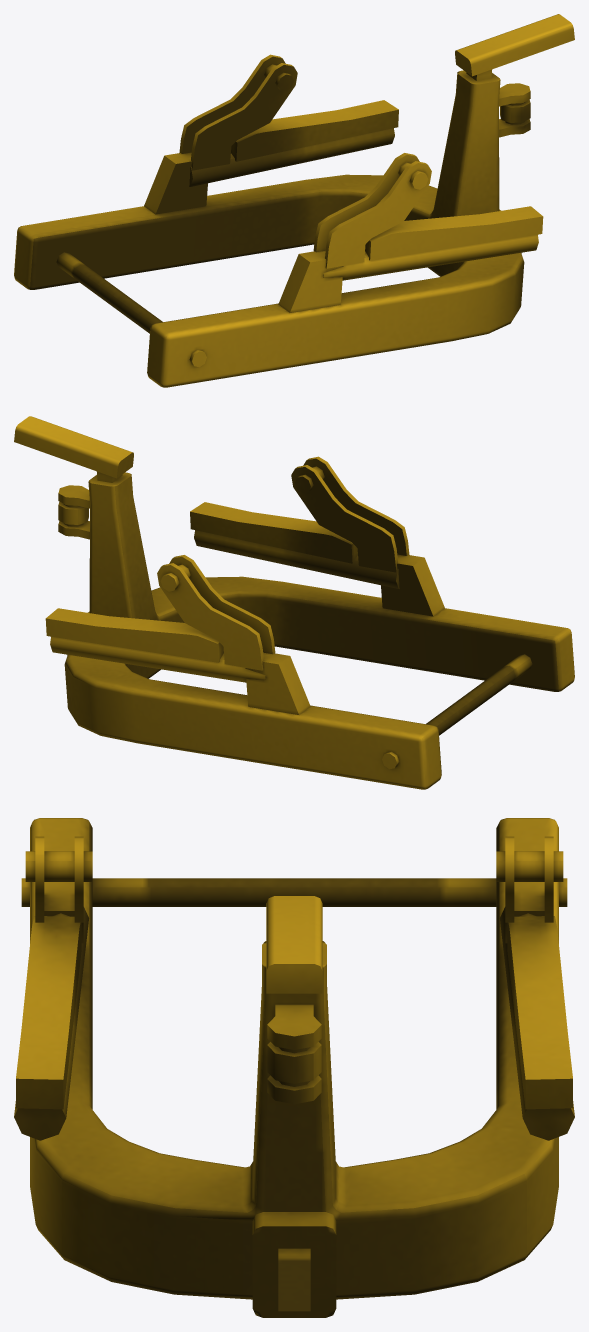
File: d37pxi24-blade-arm.dae
3 renders of one model, top to bottom at view 1: azimuth 30°, elevation 25°; view 2: azimuth 150°, elevation 25°; view 3: azimuth 270°, elevation 25°, orthographic. The views are drawn at different scales.
Visible parts, largest first — view 1: d37pxi24-blade-arm; view 2: d37pxi24-blade-arm; view 3: d37pxi24-blade-arm.
Boxes of the visible parts, x1,y1,x2,y2 form: d37pxi24-blade-arm: (14, 14, 574, 387); d37pxi24-blade-arm: (14, 416, 574, 789); d37pxi24-blade-arm: (14, 818, 574, 1317).
Size of the model in its own units: 1.88 by 1.09 by 0.8781.
Materials: 1 (1 with a texture image).
